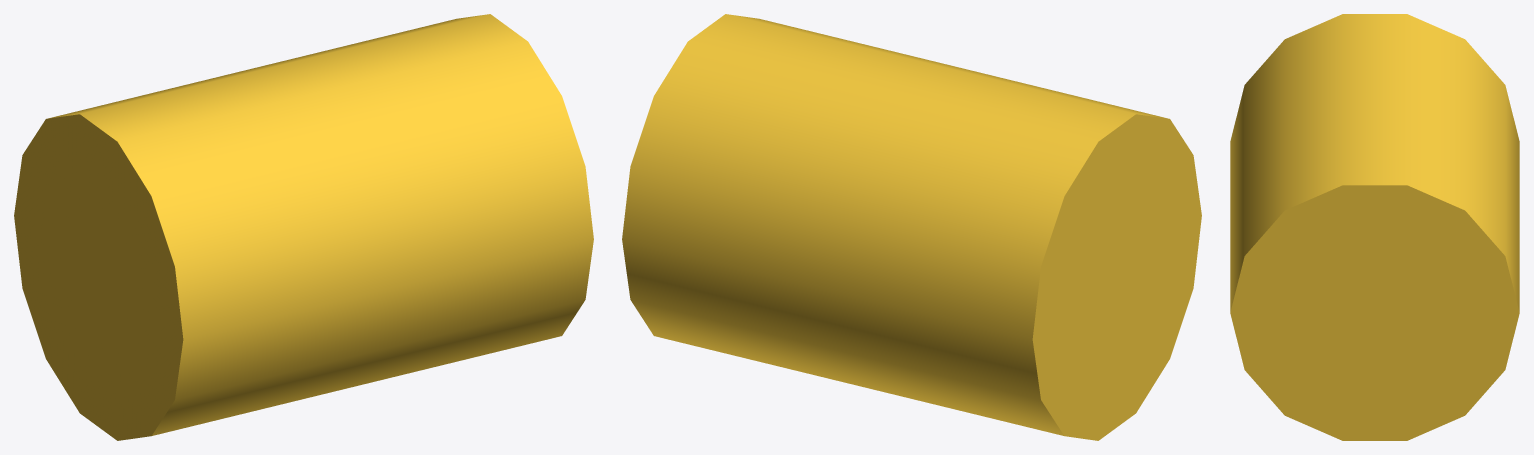
The model's file is gas-cue-tier-1.glb.
3 views of the same model, side by side, from view 1: azimuth 30°, elevation 25°; view 2: azimuth 150°, elevation 25°; view 3: azimuth 270°, elevation 25° (orthographic). The views are drawn at different scales.
Visible parts, largest first — view 1: Tank; view 2: Tank; view 3: Tank.
Boxes of the visible parts, <box> form: Tank: <box>14,14,593,440</box>; Tank: <box>622,14,1201,440</box>; Tank: <box>1230,14,1519,440</box>.
Bounding box in the file's own units: 0.42 × 0.2925 × 0.3.
